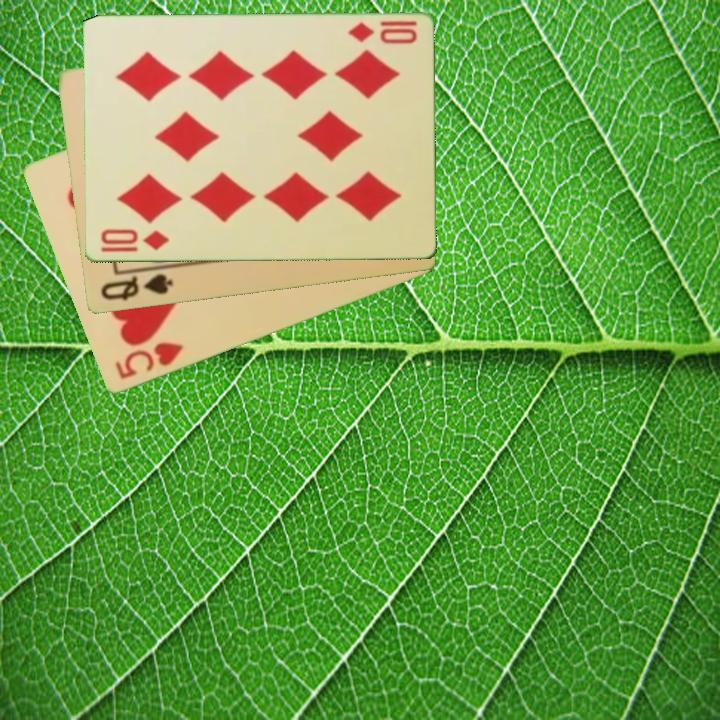10d: (344, 17, 419, 48), (97, 226, 171, 255)
5h: (111, 339, 186, 383)
Qs: (96, 271, 175, 304)
